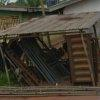stairs: (67, 32, 95, 86)
